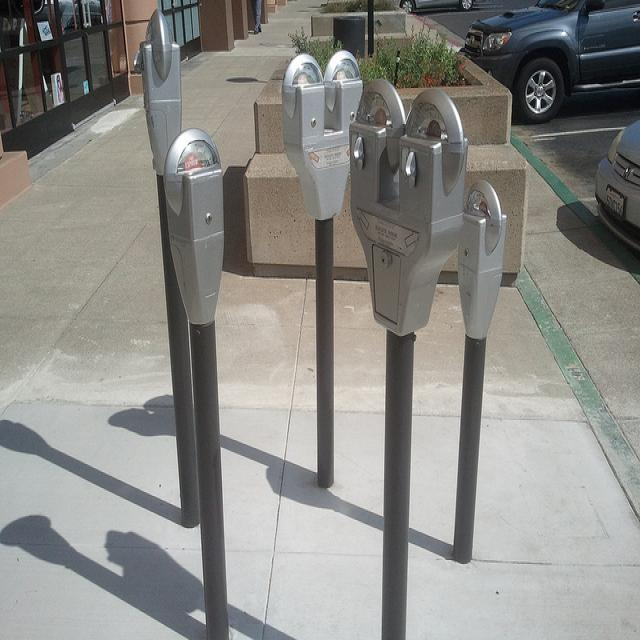Vehicle: (464, 0, 640, 121), (593, 119, 640, 256), (394, 1, 496, 13)
